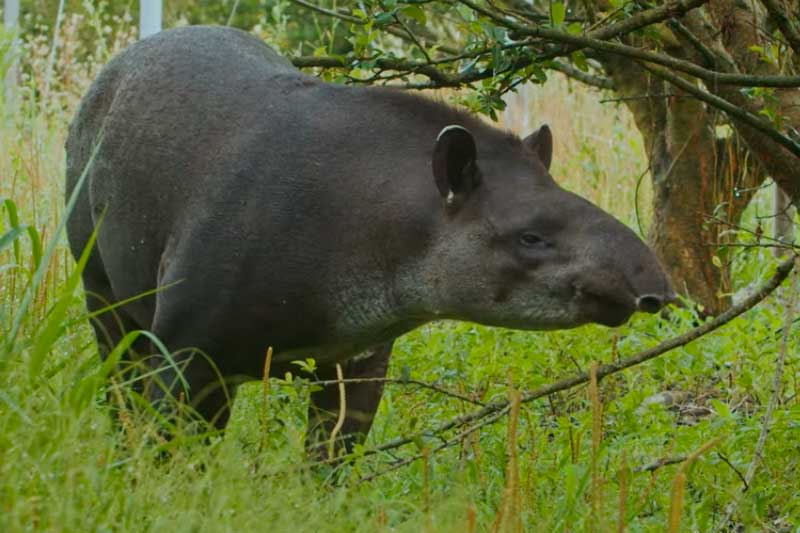Anta: (57, 17, 685, 464)
